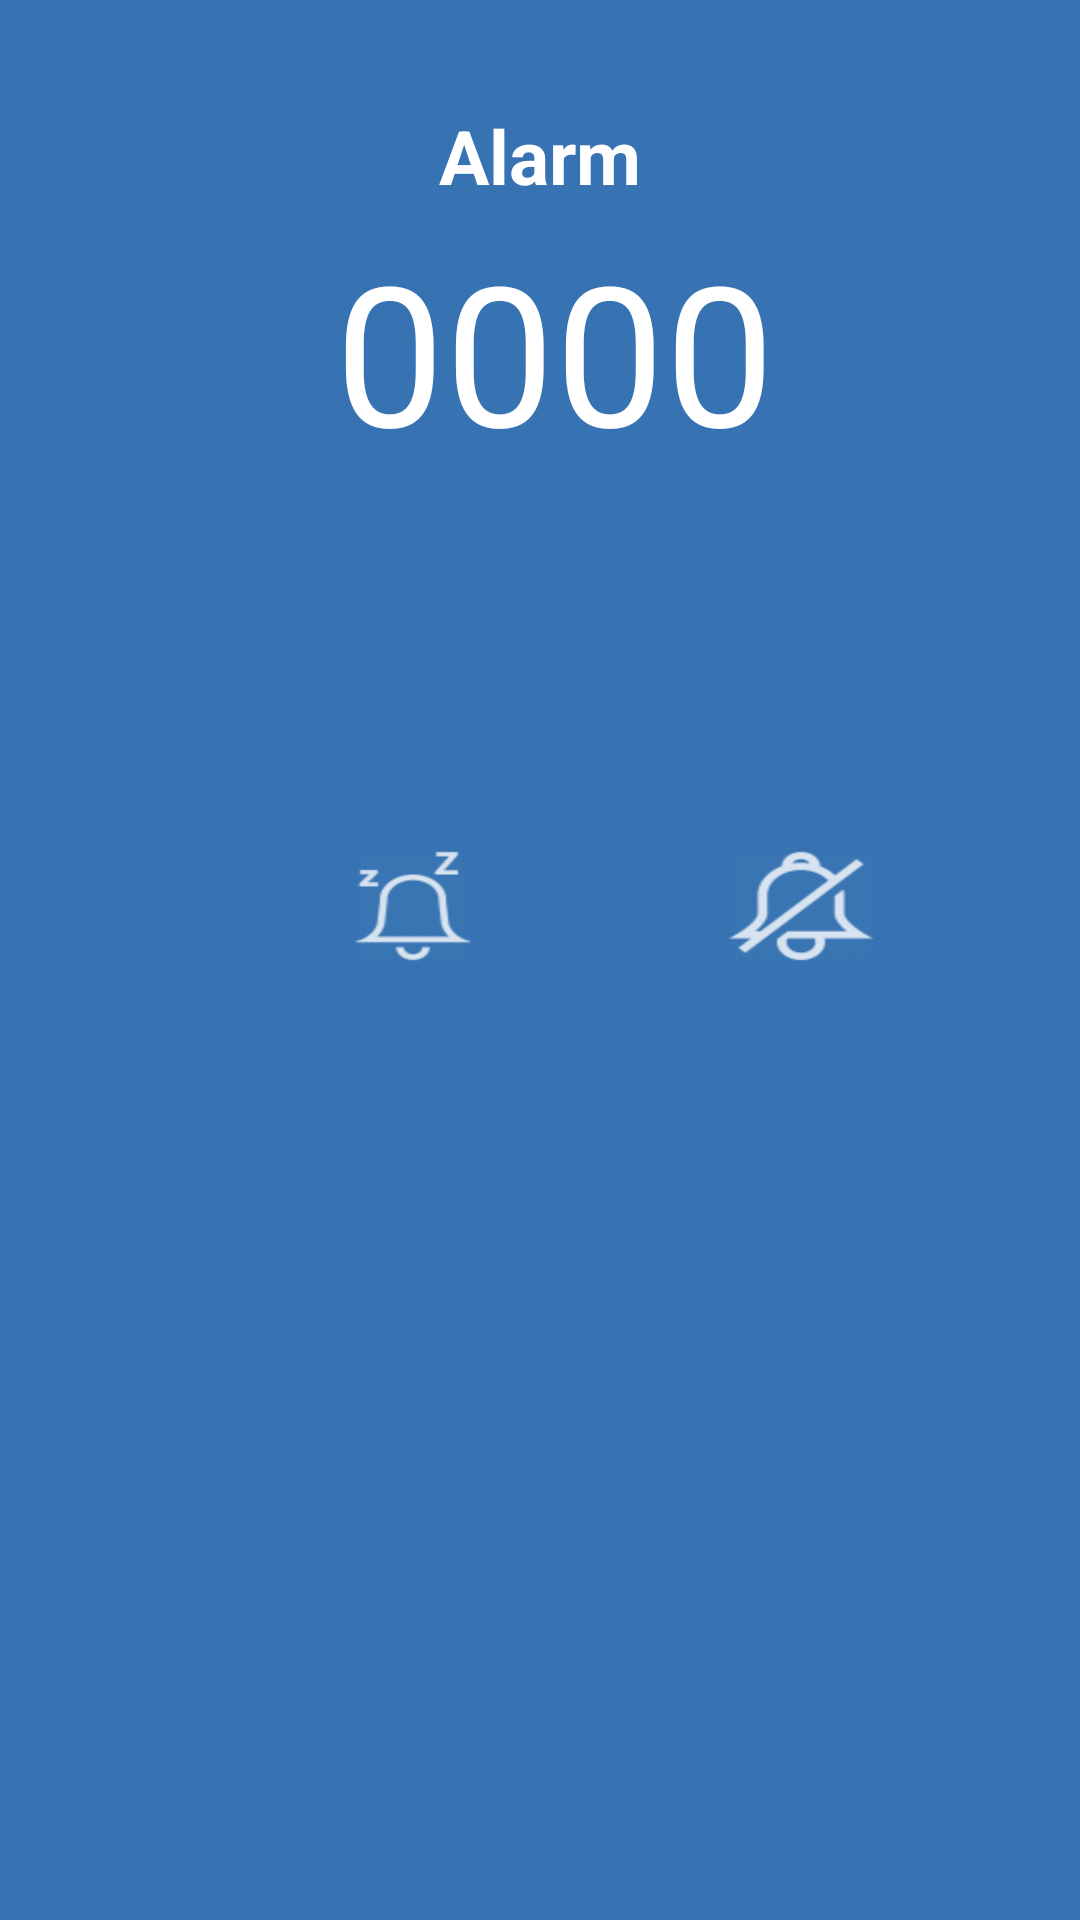

Screen size 1080w x 1920h. Icon name, then its box in pixels as box=[x1, y1, x2, y2]:
alarm off: box=[729, 851, 873, 961]
snooze: box=[356, 851, 470, 960]
